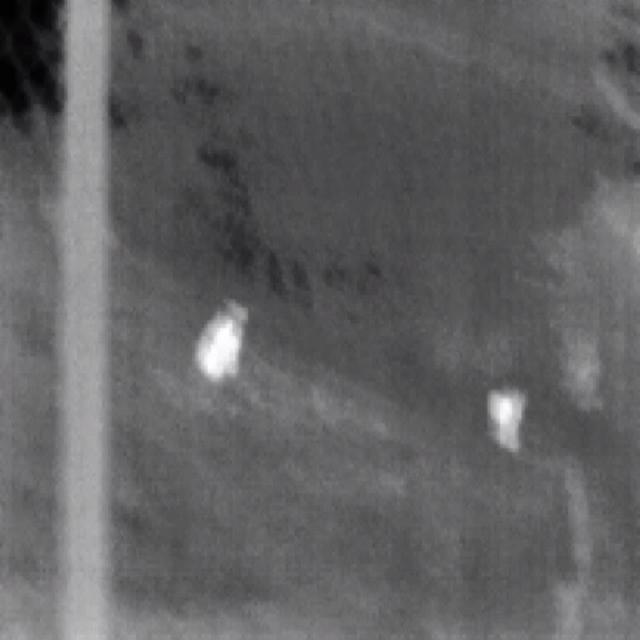cheetah: (199, 300, 247, 381), (487, 389, 526, 454)
